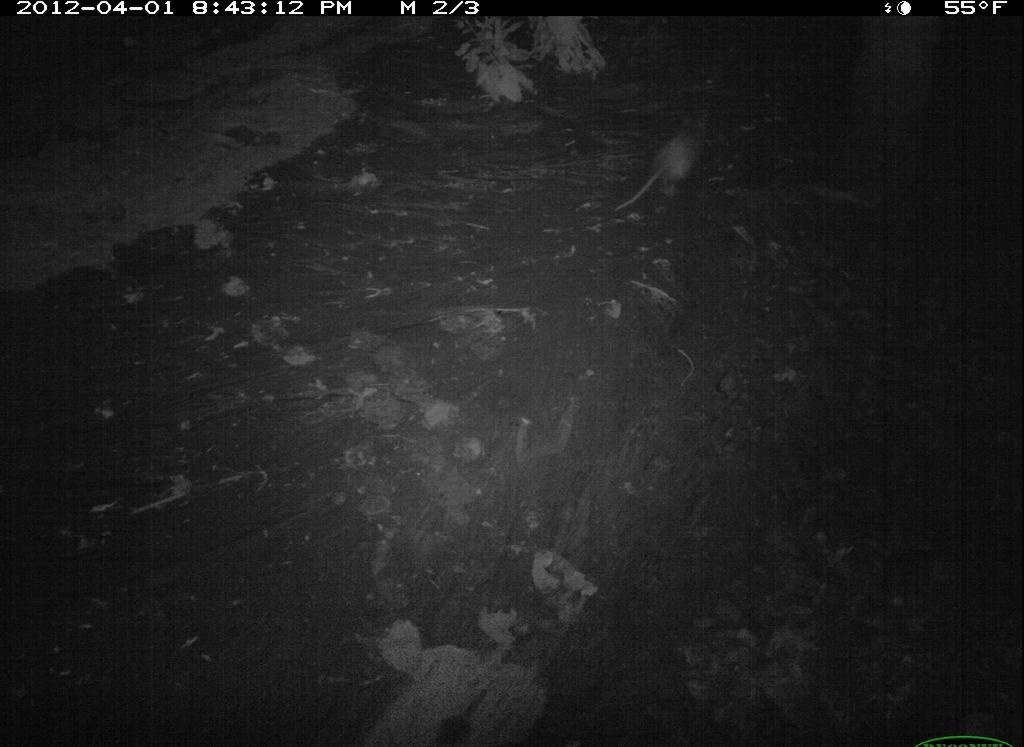opossum: (614, 103, 724, 235)
